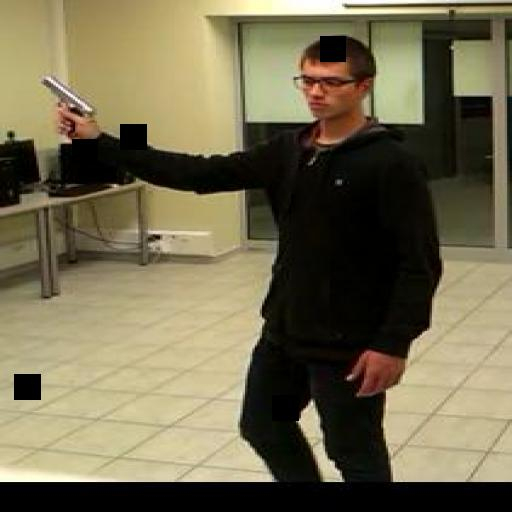Handgun: (34, 73, 102, 137)
